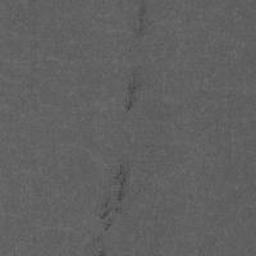Inclusion: (97, 163, 129, 232), (123, 69, 142, 114), (136, 0, 148, 35), (91, 233, 108, 256)
